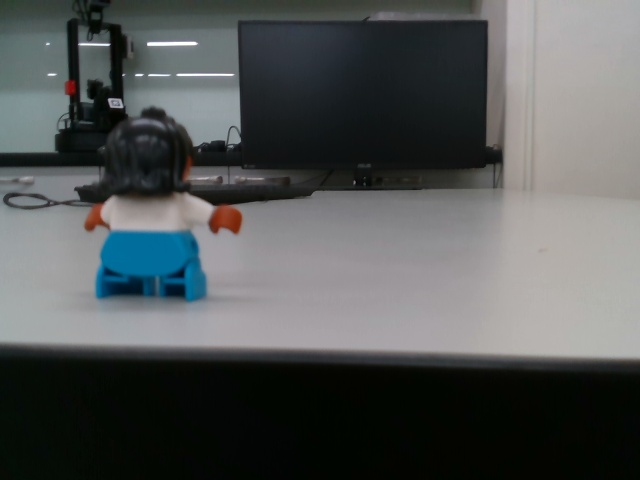people: (80, 112, 247, 304)
